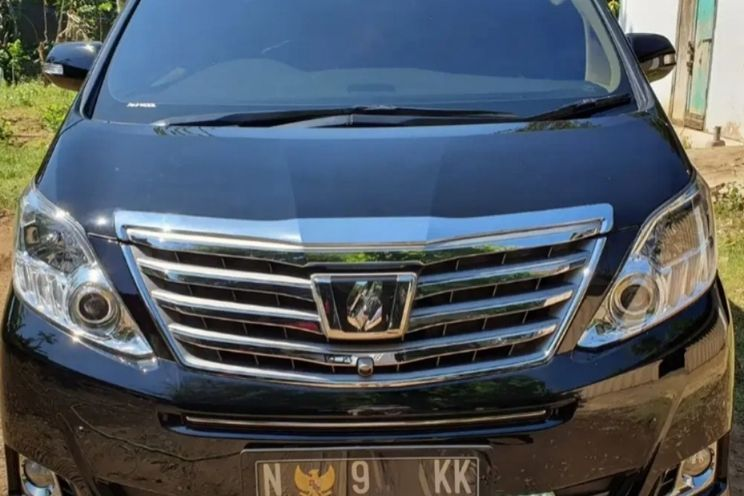plat nomor: (245, 450, 481, 496)
